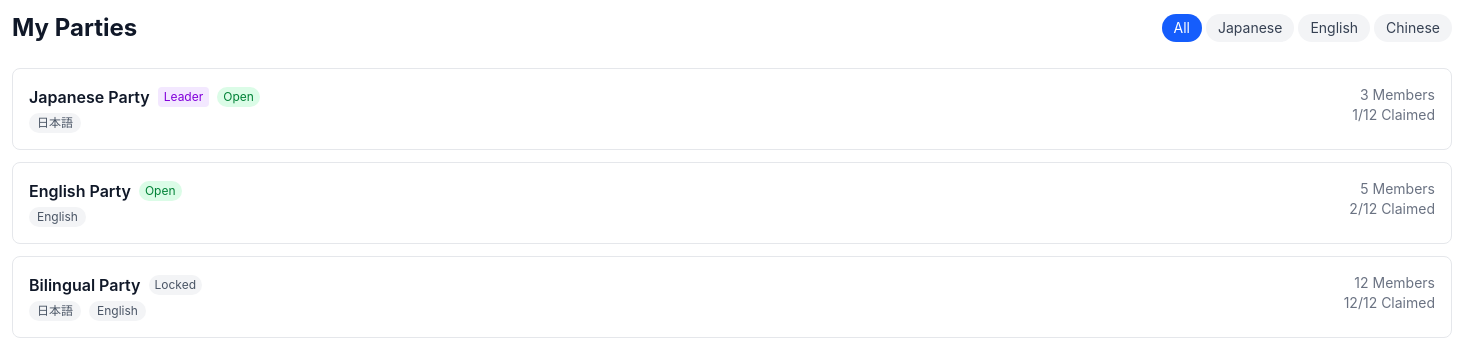
Test case: MyParties — language filtering › filters parties when English filter is clicked
Expected: the heading "Japanese Party" is shown, [29, 85, 150, 109]
Click the button "English": (1334, 28) [1298, 14, 1370, 42]
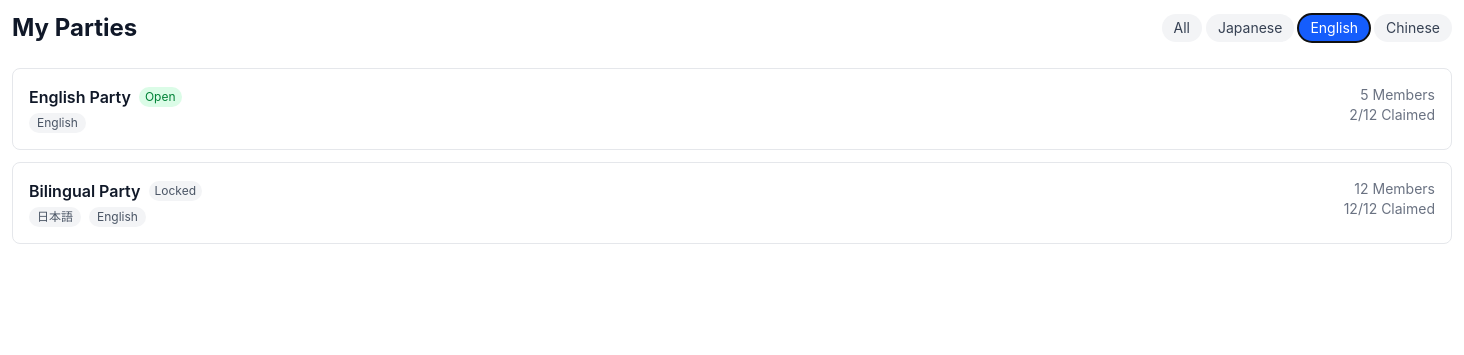
Expected: the heading "English Party" is shown, [29, 85, 131, 109]
Expected: the link "Japanese Party" is gone
